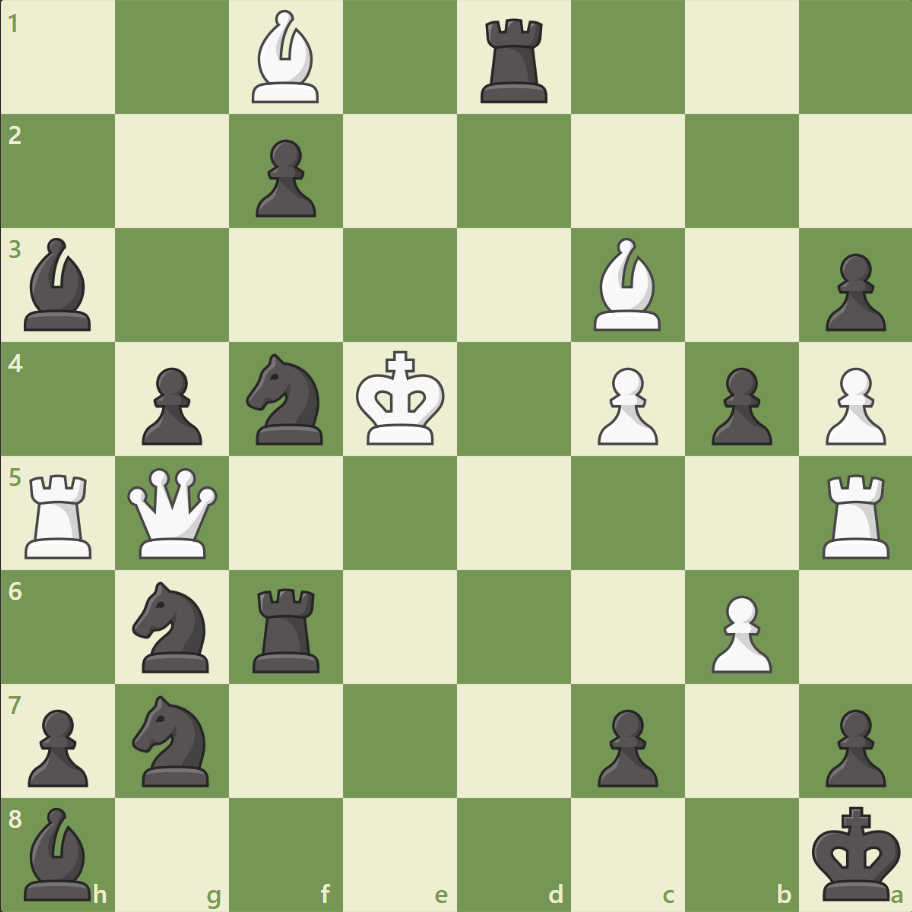B: (585, 233, 669, 336), (244, 6, 328, 109)
K: (351, 344, 451, 452)
P: (701, 586, 776, 677), (815, 359, 889, 450), (588, 359, 662, 450)
Q: (124, 463, 223, 562)
R: (814, 466, 897, 563), (19, 466, 102, 563)
b: (17, 801, 101, 904), (17, 233, 101, 336)
k: (806, 798, 906, 906)
n: (124, 688, 222, 791), (124, 575, 222, 677), (238, 348, 335, 450)
p: (20, 700, 95, 791), (701, 359, 776, 450), (133, 359, 208, 450), (247, 132, 322, 223), (815, 700, 889, 791), (588, 700, 662, 791), (815, 246, 889, 337)
r: (246, 579, 329, 676), (473, 12, 556, 109)
